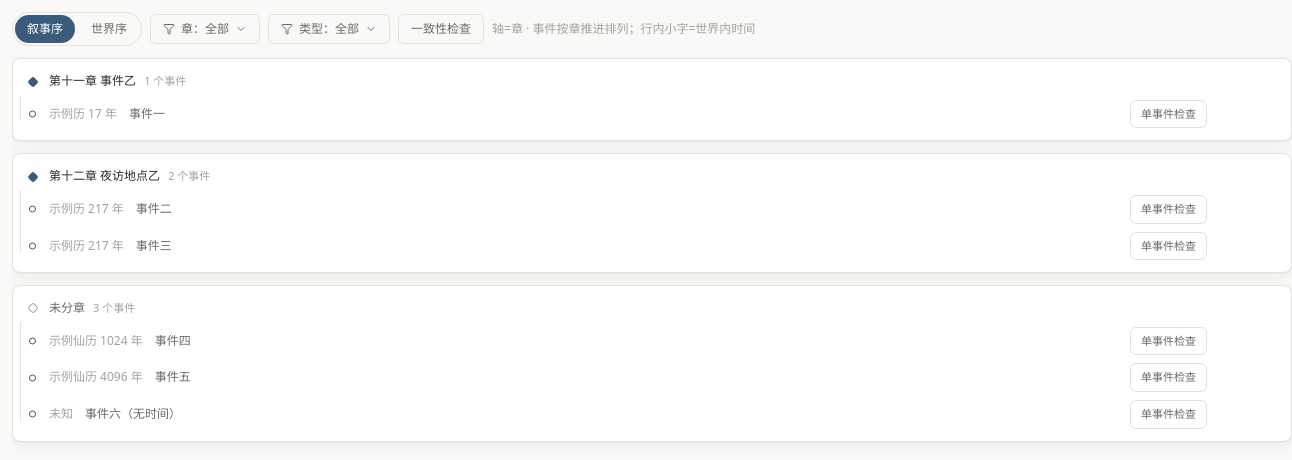
#1541 世界序「单块刻度带」 › B1 单块：仅 1 个 tl-band；无泳道卡片（tl-lane-*）/ 无 tl-timenode-*
This screenshot has width=1292, height=460.
Step 1. Click the button with test id "tl-view-world" → x=109, y=29, box [79,15,139,43]
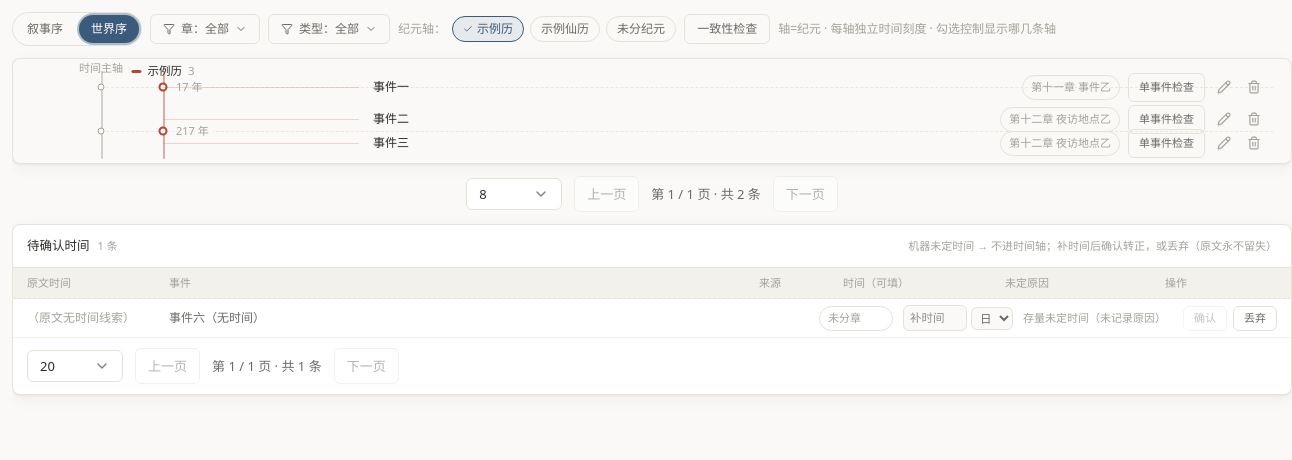
Result: the element with test id "tl-band" is shown at [12,58,1291,164]
